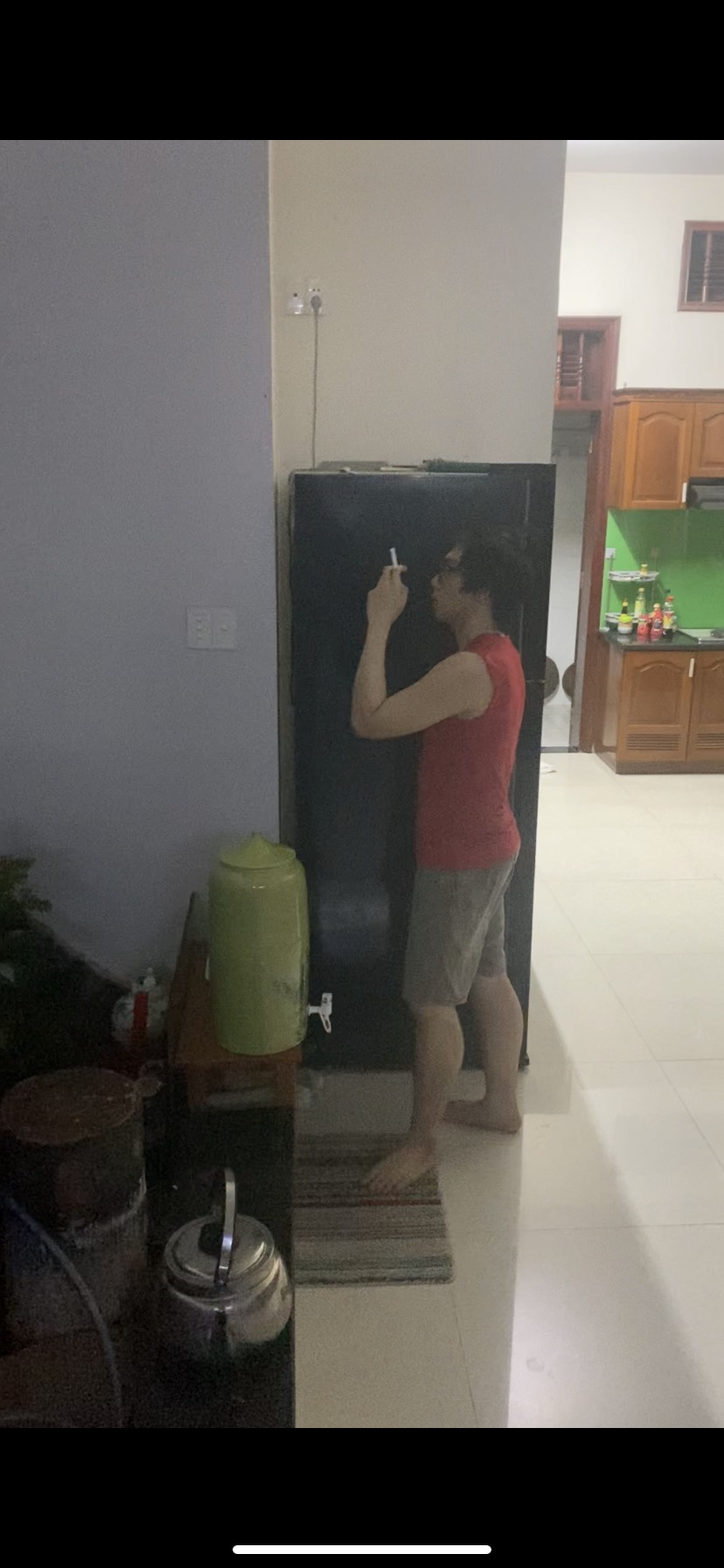cigarette: (385, 543, 402, 567)
person: (350, 501, 539, 1222)
